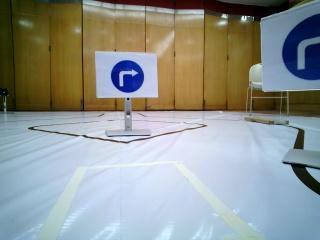right: (260, 14, 320, 87), (95, 51, 157, 98)
